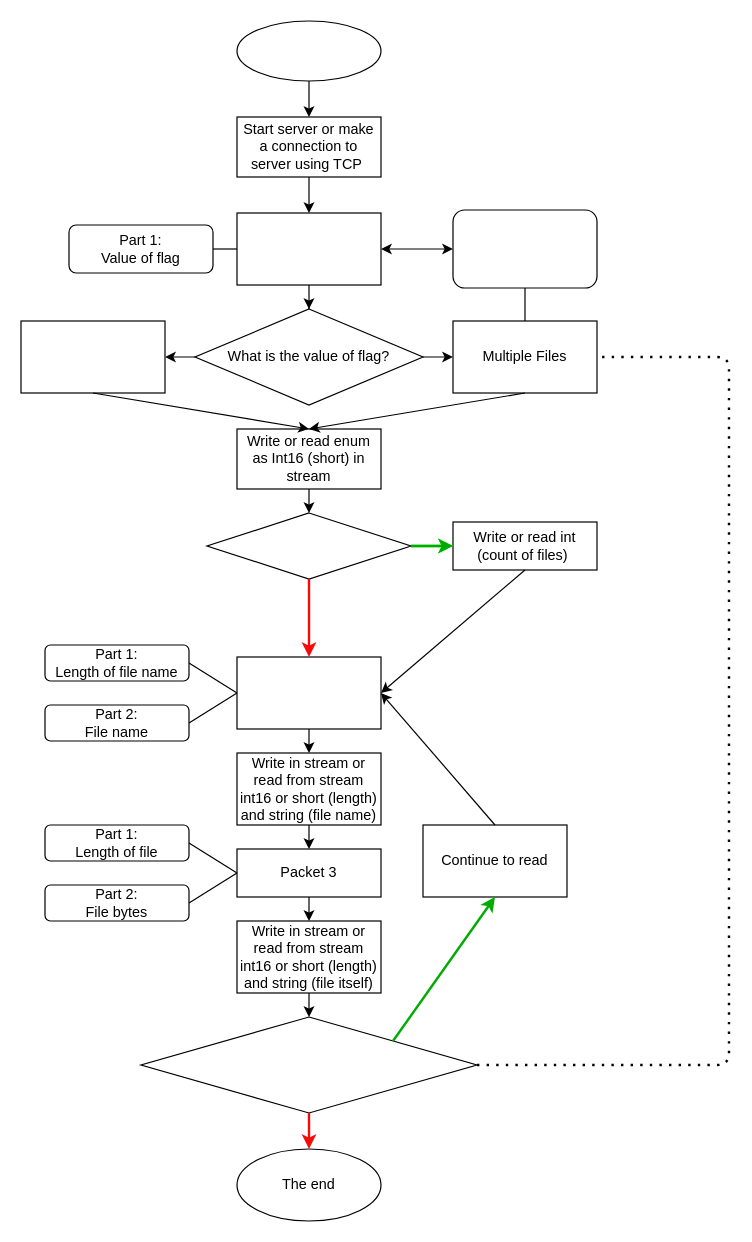
This 752x1242 diagram has some shape labels left out. Each missing label, with the centre of its shape:
Additional Part 2: Count of files which need to send or receive: point (524, 248)
Are there any files left that weren't read or sent?: point (308, 1064)
Flag is Multiple Files?: point (308, 545)
Packet 1: Flag: point (308, 248)
Packet 2: point (308, 692)
Single File: point (92, 356)
Start: point (308, 50)
